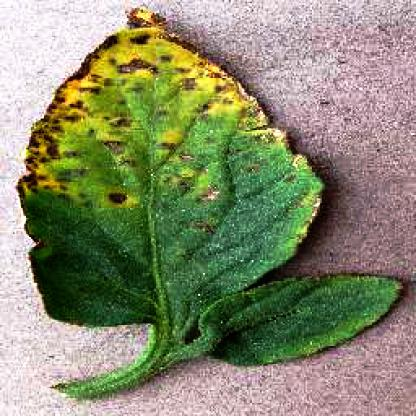BACTERIAL SPOT: (11, 5, 403, 403)
